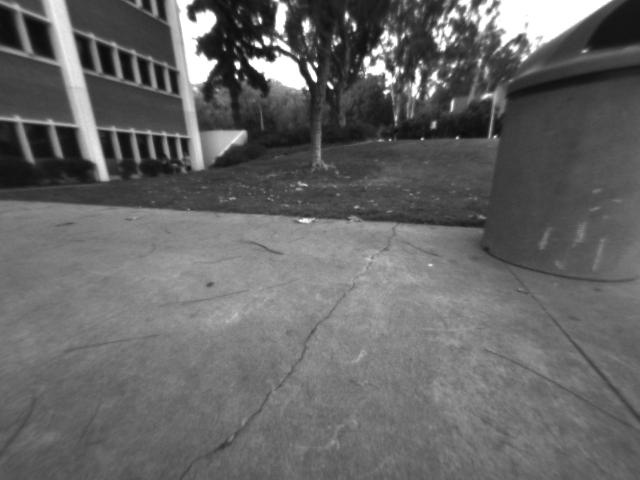trashcan: (466, 5, 640, 289)
